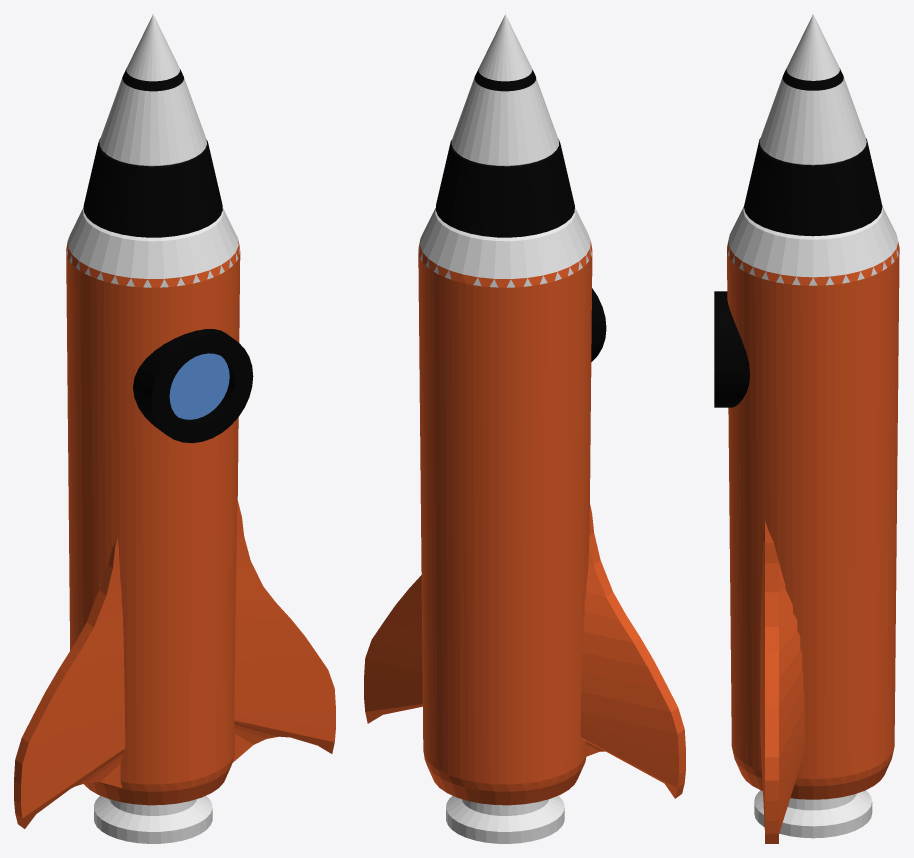
The model's file is rocket2.glb.
3 renders of one model, left to right at view 1: azimuth 30°, elevation 25°; view 2: azimuth 150°, elevation 25°; view 3: azimuth 270°, elevation 25°, orthographic.
Visible parts, largest first — view 1: Kadłub, Skrzydło, Skrzydło.001, Okno; view 2: Kadłub, Skrzydło, Skrzydło.001, Okno; view 3: Kadłub, Skrzydło.001, Okno.
Boxes of the visible parts, left/top/right/bottom form: Kadłub: left=66, top=14, right=240, bottom=843; Skrzydło: left=14, top=537, right=125, bottom=828; Skrzydło.001: left=232, top=499, right=335, bottom=762; Okno: left=133, top=329, right=253, bottom=443; Kadłub: left=418, top=14, right=592, bottom=843; Skrzydło: left=580, top=504, right=685, bottom=798; Skrzydło.001: left=364, top=575, right=422, bottom=723; Okno: left=591, top=288, right=606, bottom=361; Kadłub: left=727, top=14, right=899, bottom=838; Skrzydło.001: left=760, top=521, right=804, bottom=843; Okno: left=714, top=291, right=749, bottom=407.
Bounding box in the file's own units: 4.96 × 12.1 × 2.54.
